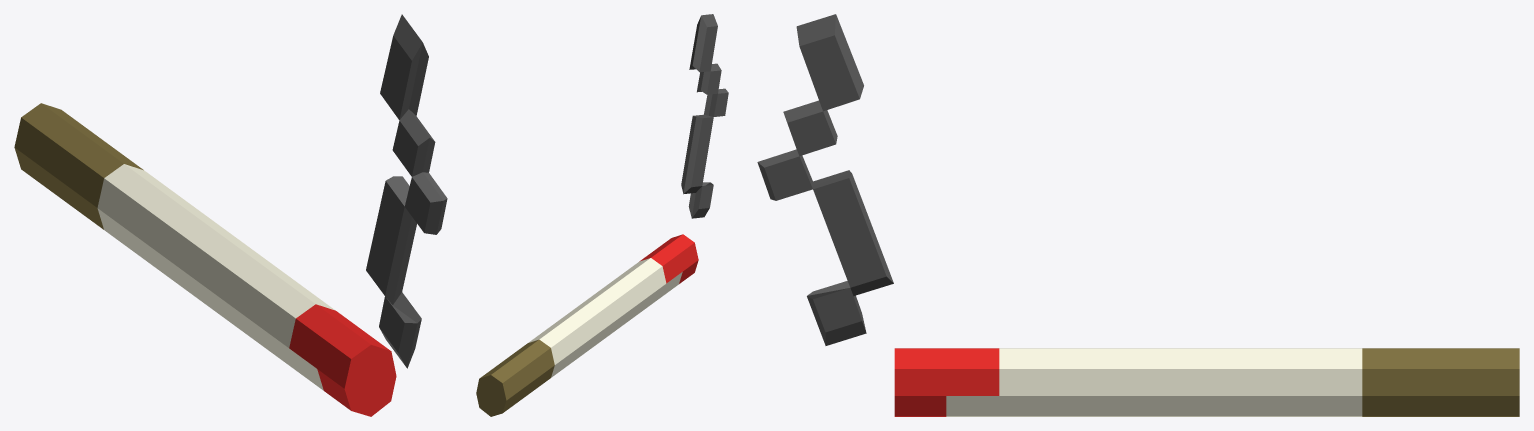
Rendered from siger.fbx.
3 renders of one model, left to right at view 1: azimuth 30°, elevation 25°; view 2: azimuth 150°, elevation 25°; view 3: azimuth 270°, elevation 25°, orthographic. The views are drawn at different scales.
Parts seen in each view (by area): view 1: 平面, 平面.001; view 2: 平面, 平面.001; view 3: 平面, 平面.001.
Part boxes in pixels (left/top/right/bottom): 平面: left=14, top=103, right=396, bottom=416; 平面.001: left=366, top=14, right=447, bottom=368; 平面: left=476, top=234, right=698, bottom=416; 平面.001: left=681, top=14, right=728, bottom=218; 平面: left=894, top=348, right=1519, bottom=416; 平面.001: left=757, top=14, right=893, bottom=345.
Size of the model in its own units: 34.17 by 267 by 458.
